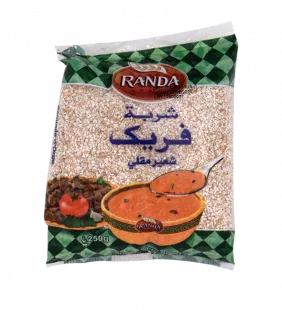RANDA: (36, 12, 244, 277)
